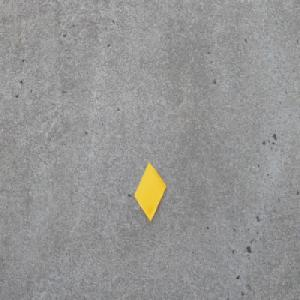PlasticPart: (133, 161, 166, 223)
